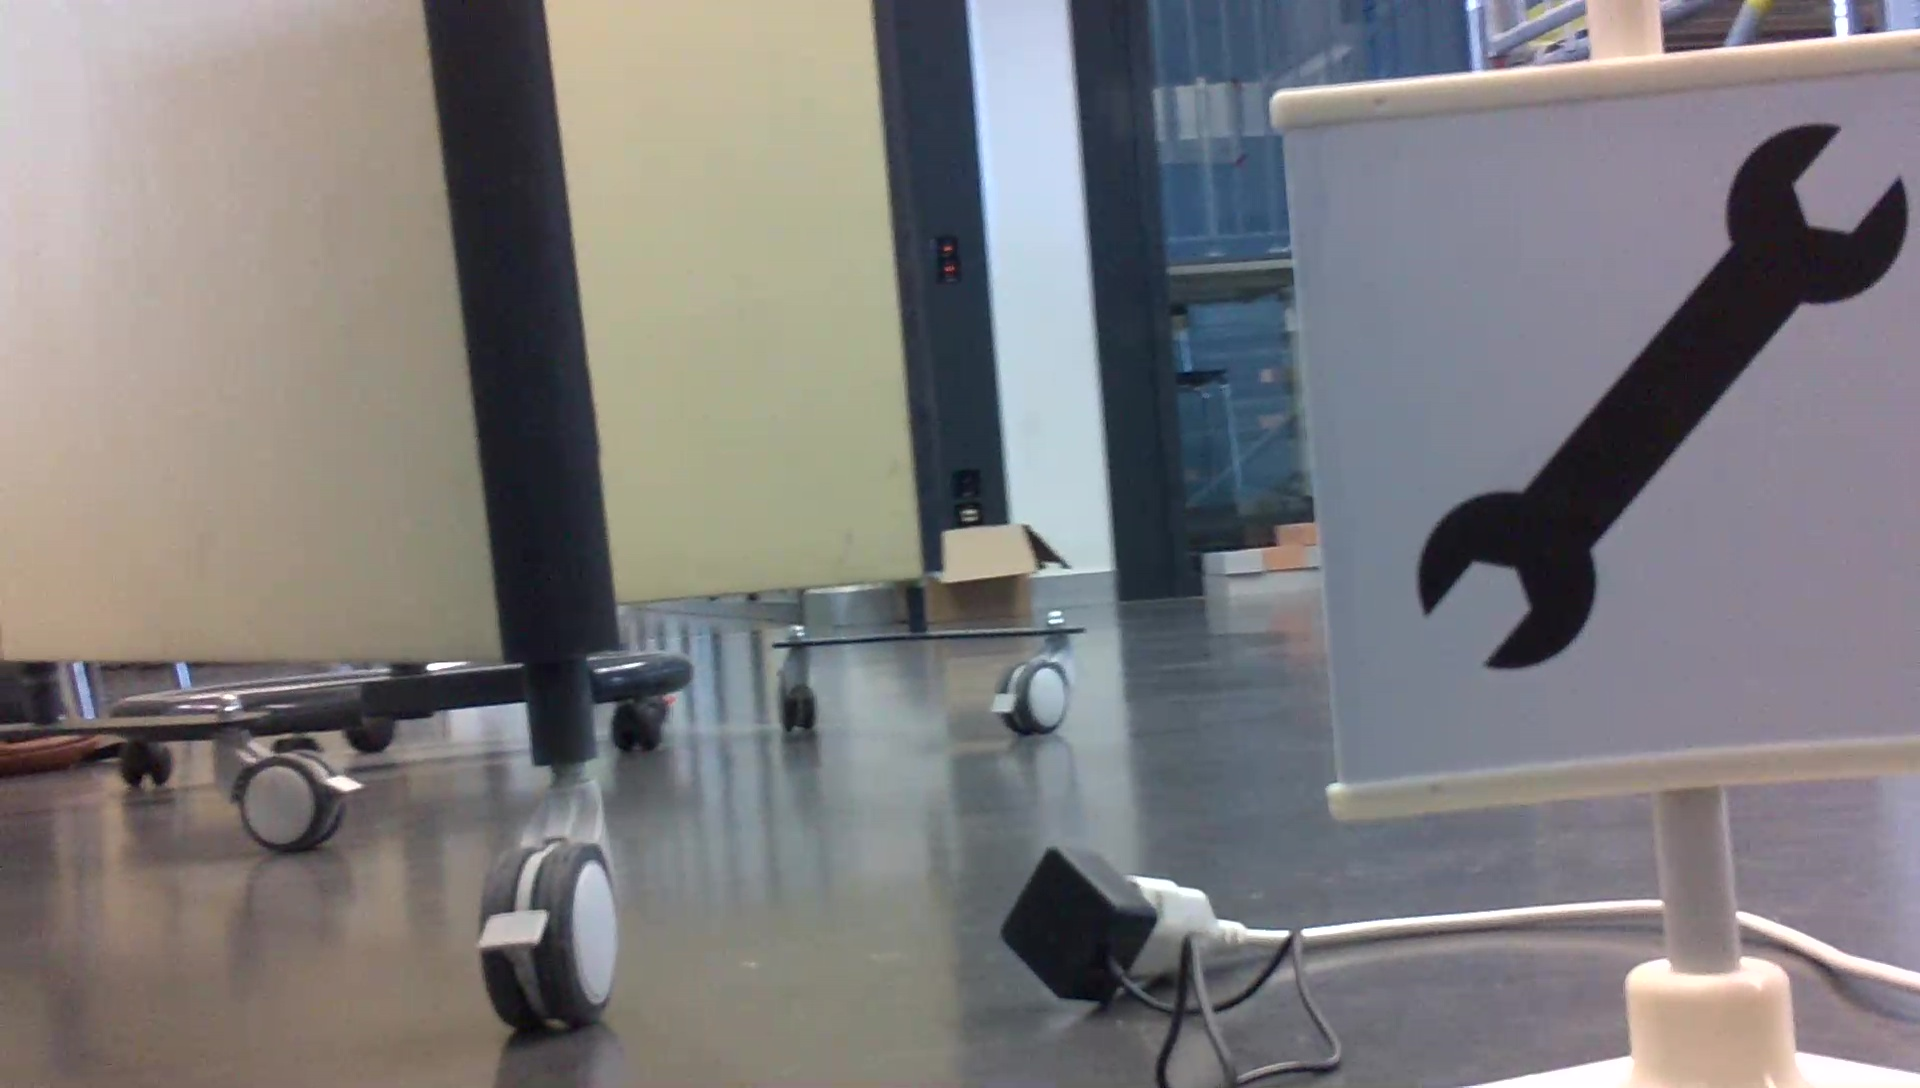wrench: (1396, 117, 1912, 683)
